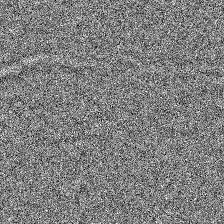cavities: (1, 69, 114, 127)
